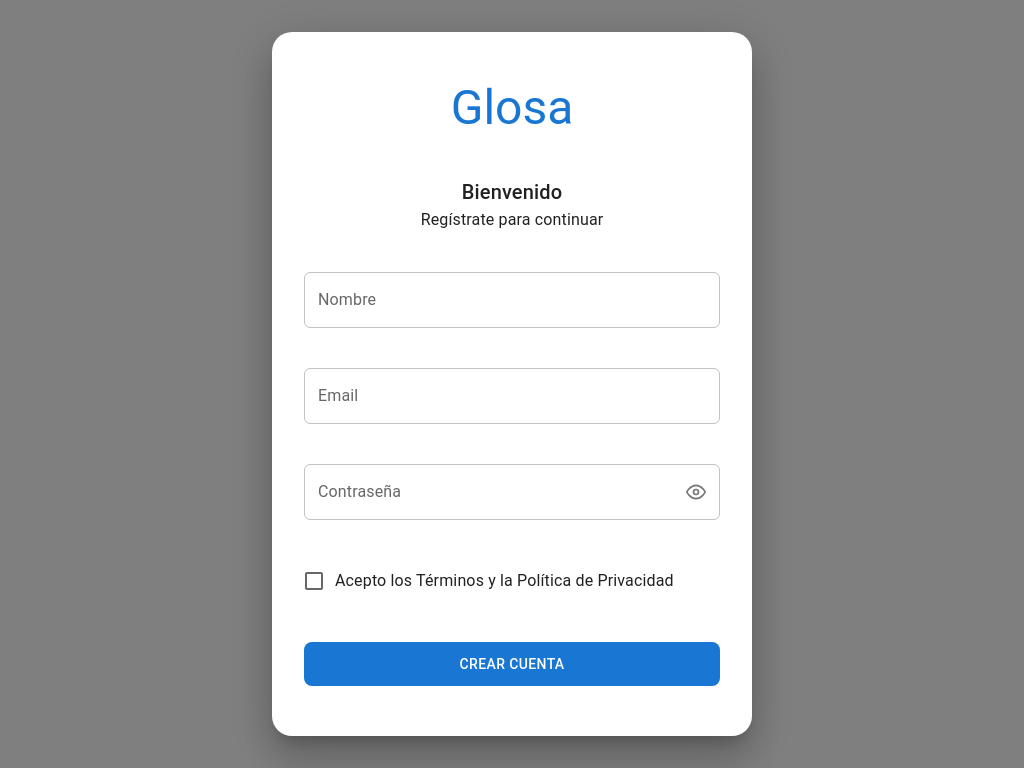
it: Given the register page › When the API answers AUTH_EMAIL_TAKEN for the email field › Then the error is shown on the email field
In the field labelled "Nombre": (512, 300) [304, 272, 720, 328], type "Isa"
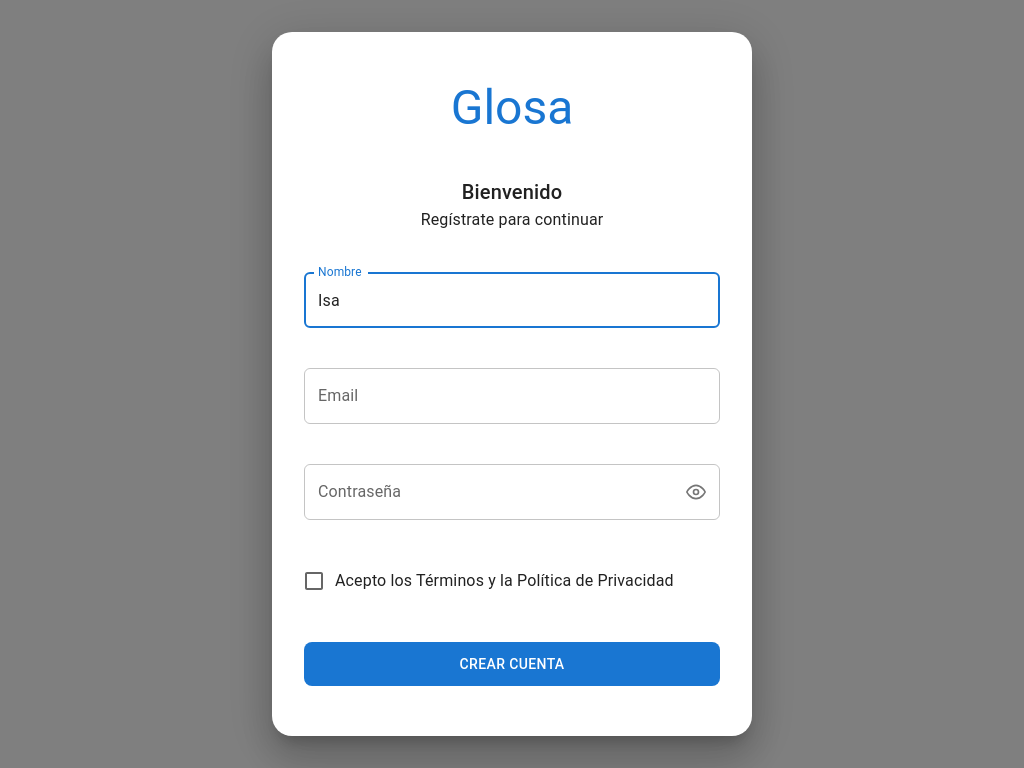
In the field labelled "Email": (512, 396) [304, 368, 720, 424], type "isa@example.com"
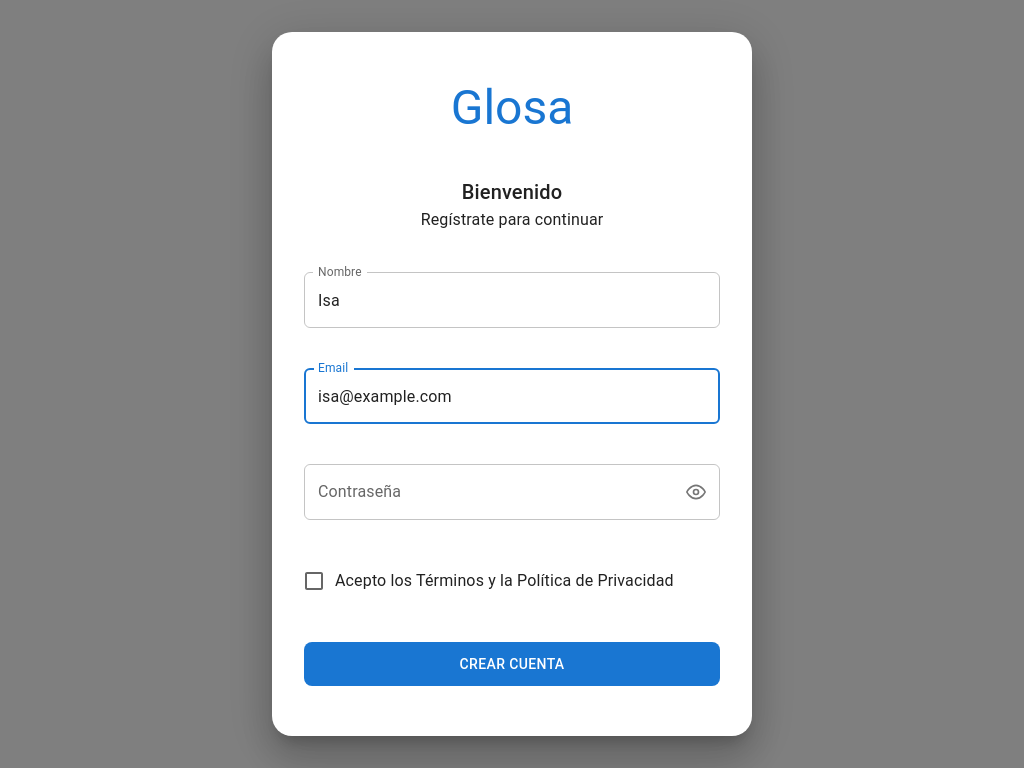
In the password field labelled "Contraseña": (485, 492) [304, 464, 666, 520], type "Secreta1!"
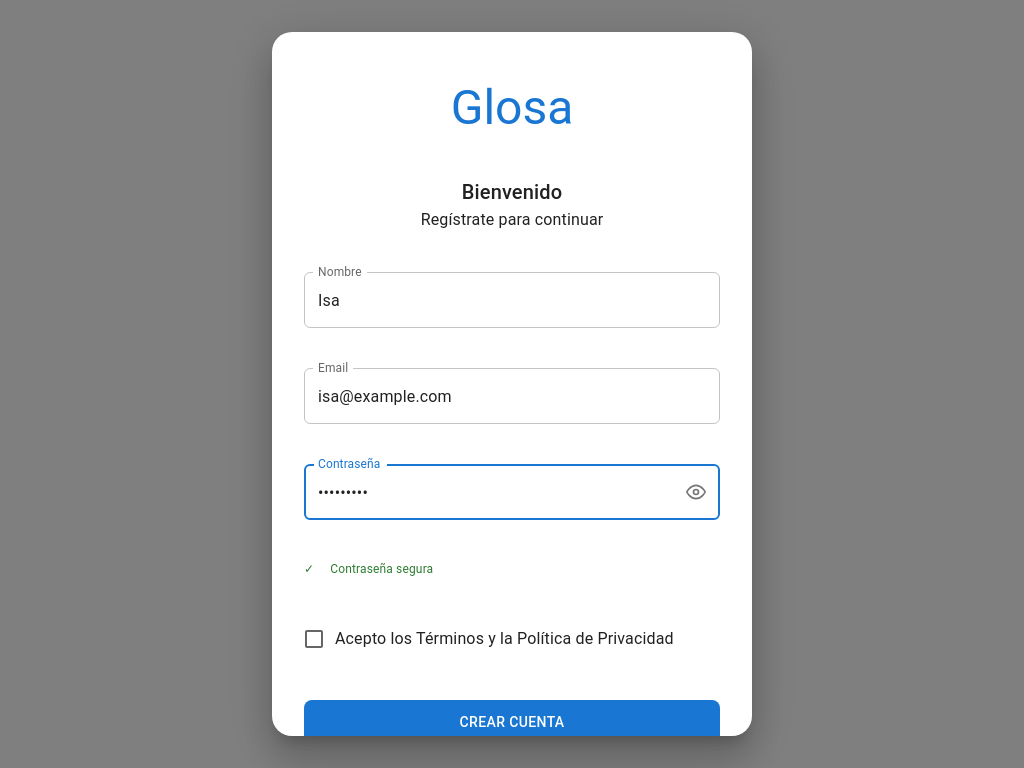
Click the checkbox: (488, 639) [302, 627, 674, 651]
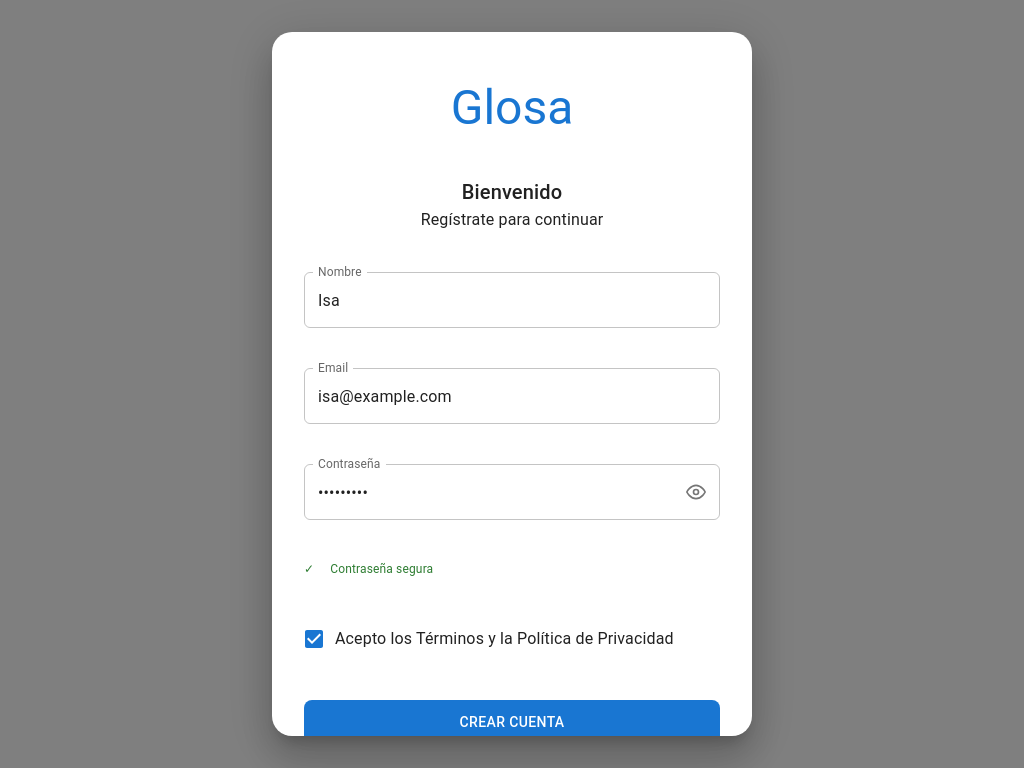
Click the button "Crear cuenta": (512, 722) [304, 700, 720, 744]
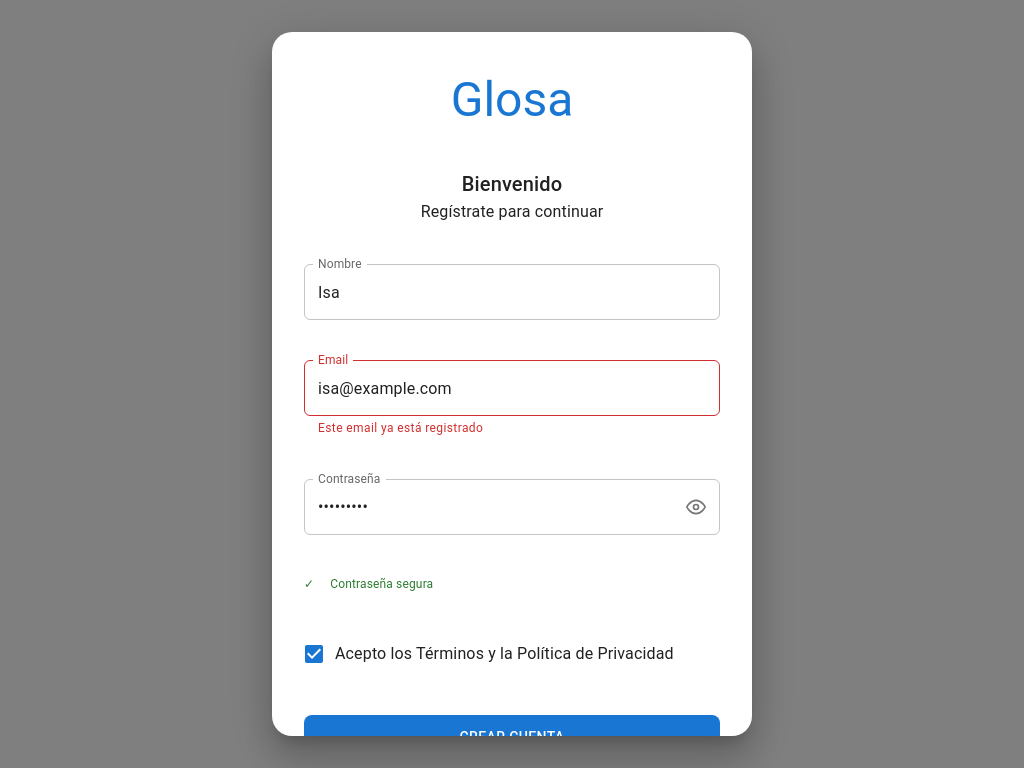
Check: the text "Este email ya está registrado" is shown, box [318, 421, 483, 435]
